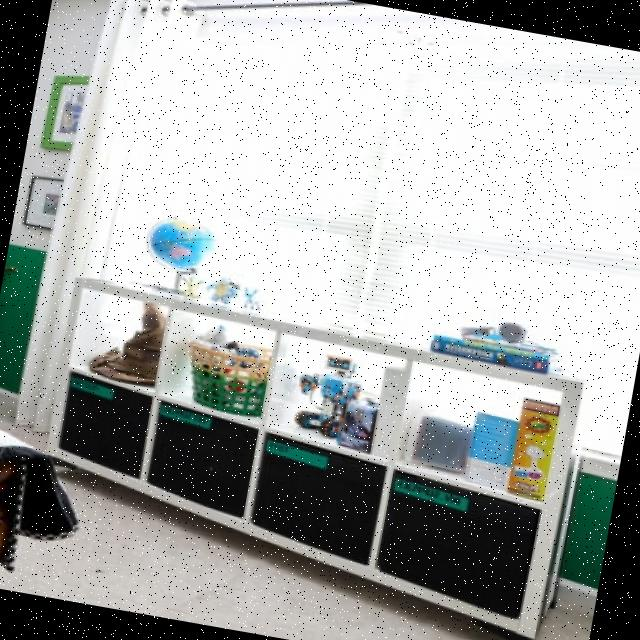Shelf: (5, 269, 614, 640)
